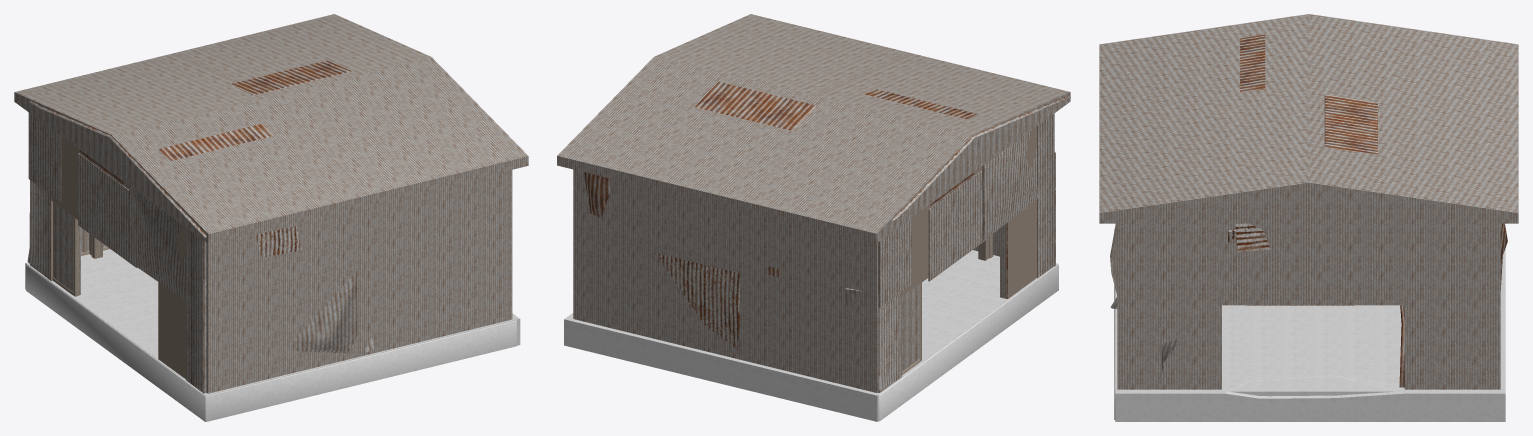
Rendered from si_small_warehouse.DAE.
The picture shows the model from 3 angles, left to right: view 1: azimuth 30°, elevation 25°; view 2: azimuth 150°, elevation 25°; view 3: azimuth 270°, elevation 25°; orthographic projection. The views are drawn at different scales.
Visible parts, largest first — view 1: Colmesh-1, si_small_warehouse450, si_small_warehouse20; view 2: Colmesh-1, si_small_warehouse450, si_small_warehouse20; view 3: Colmesh-1, si_small_warehouse450, si_small_warehouse60.
Boxes of the visible parts, x1,y1,x2,y2 form: Colmesh-1: (14,14,528,395); si_small_warehouse450: (26,60,516,421); si_small_warehouse20: (30,136,204,379); Colmesh-1: (557,14,1070,421); si_small_warehouse450: (583,81,1070,421); si_small_warehouse20: (878,126,1036,392); Colmesh-1: (1099,14,1518,421); si_small_warehouse450: (1110,34,1507,419); si_small_warehouse60: (1230,376,1393,396).
Size of the model in its own units: 1289 by 1347 by 850.
